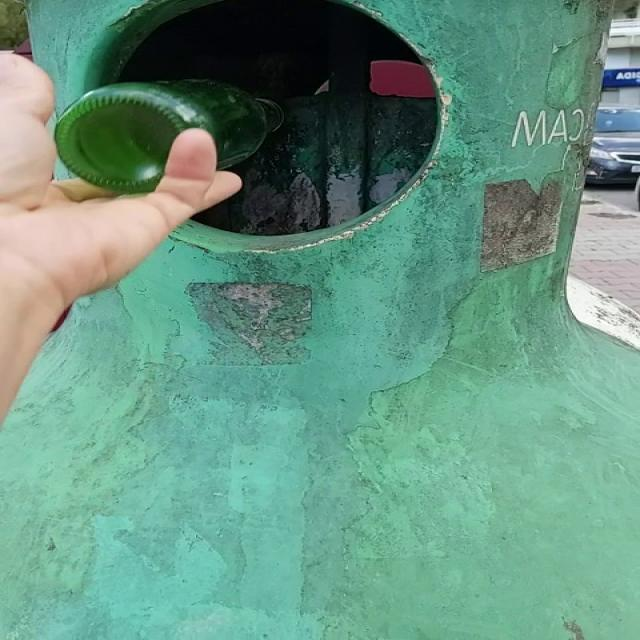Glass: (56, 79, 281, 193)
